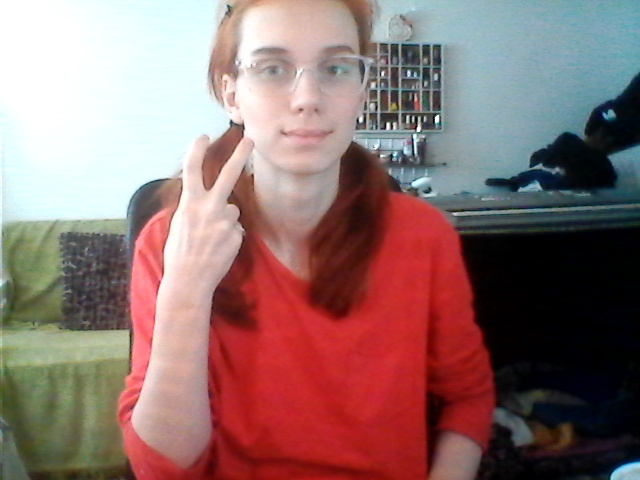usmievat: (156, 126, 359, 266)
